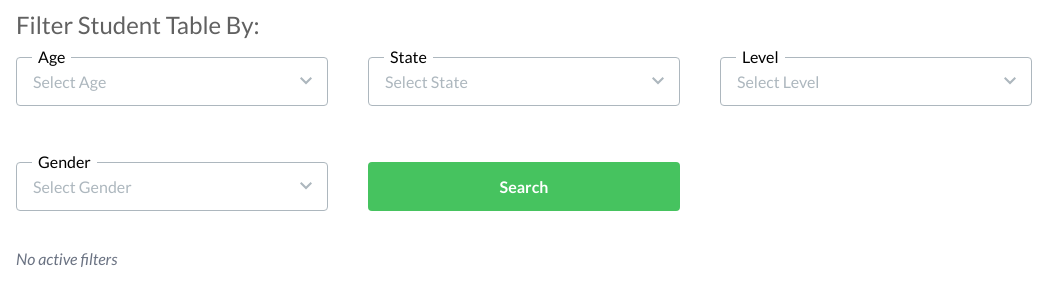
it: Filter section › updates information when the active filters change
The width and height of the screenshot is (1049, 306).
Expected: the text "No active filters" is shown, [16,249,118,268]
Select "Abuja" in the dropdown with test id "stateDropdown" at x=524, y=82, box [368,57,680,106]
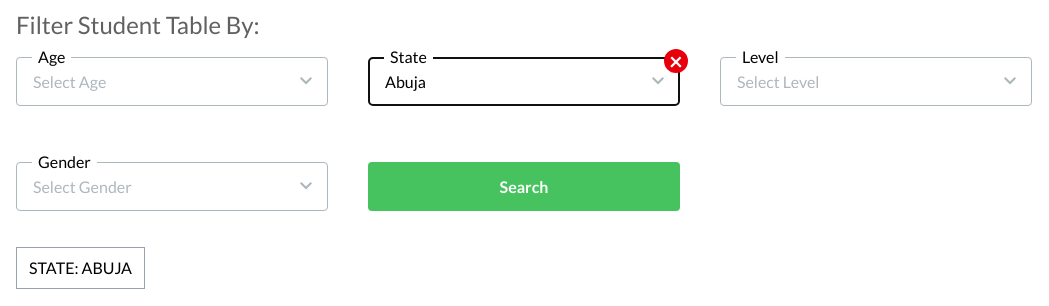
Expected: the text "state: Abuja" is shown, [16,247,145,289]
